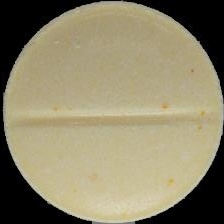65162-361: (0, 0, 224, 224)
